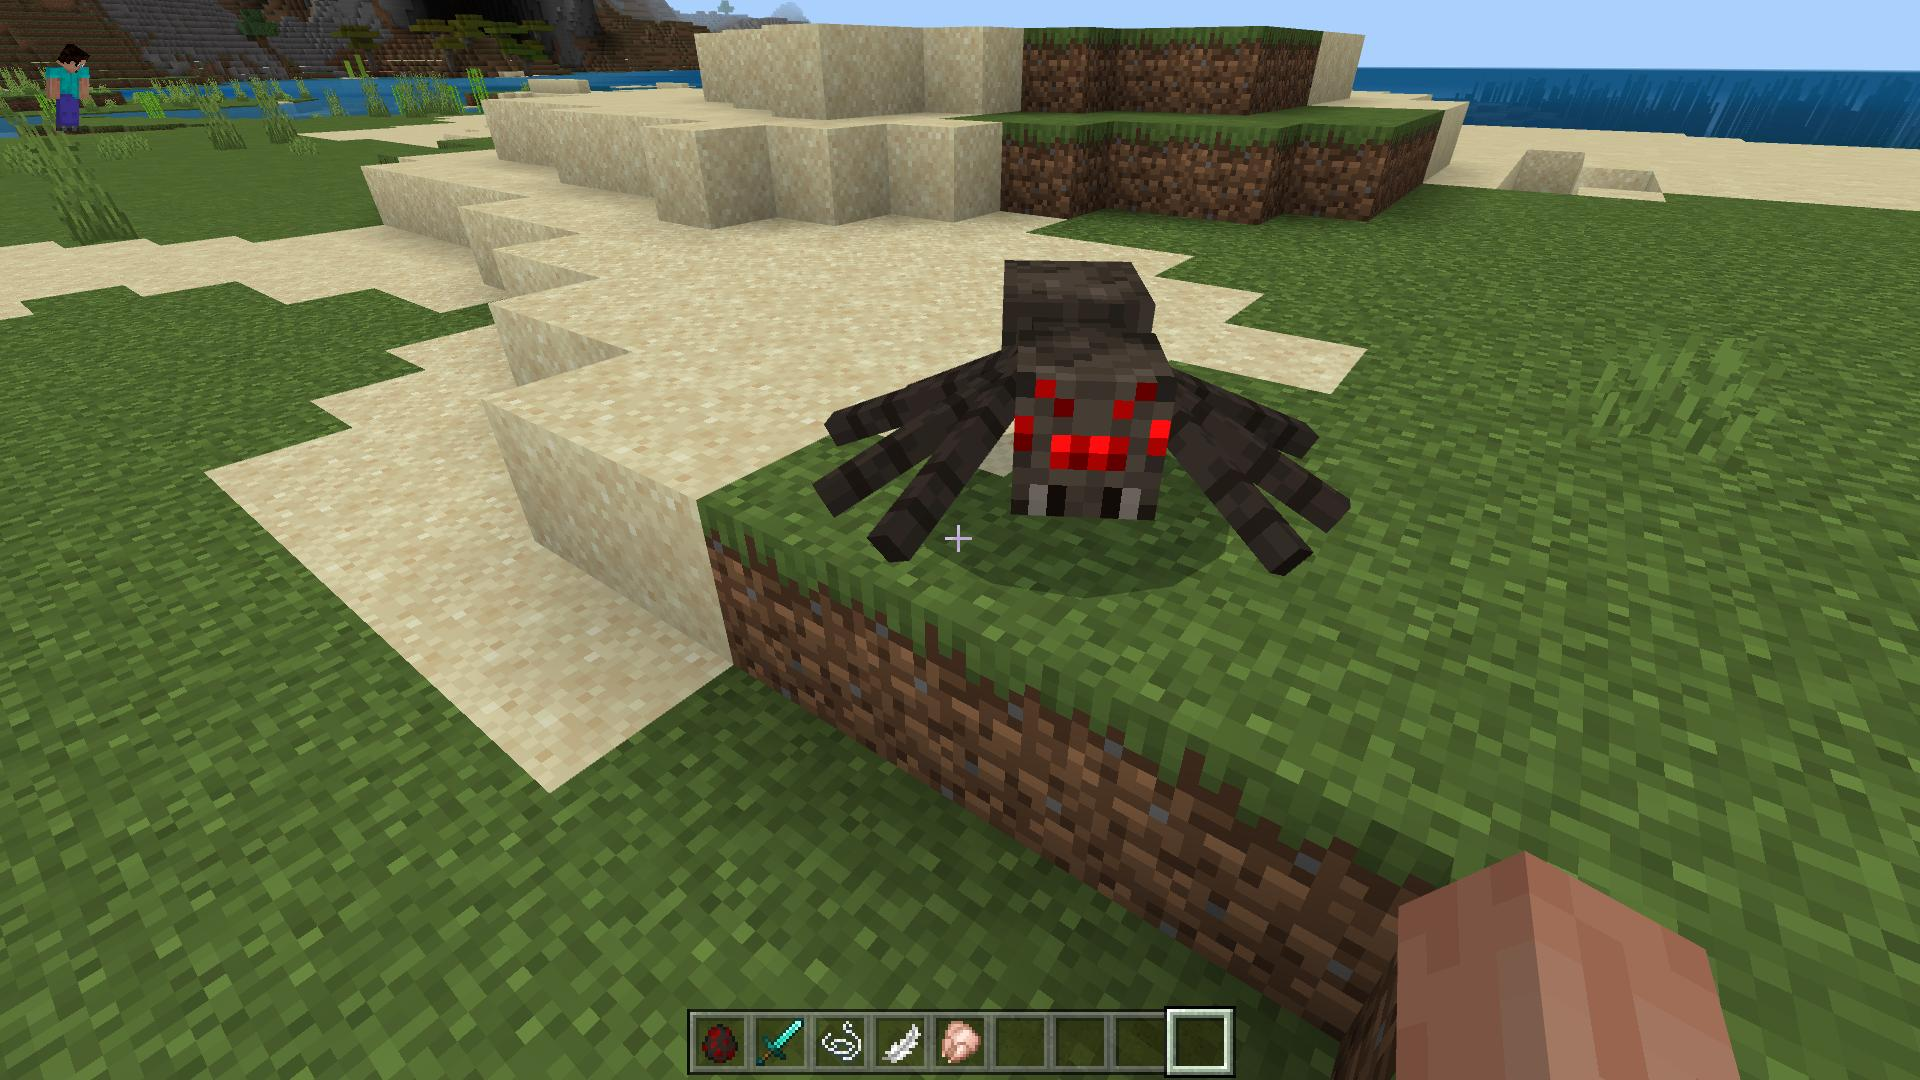spider: (814, 256, 1348, 580)
